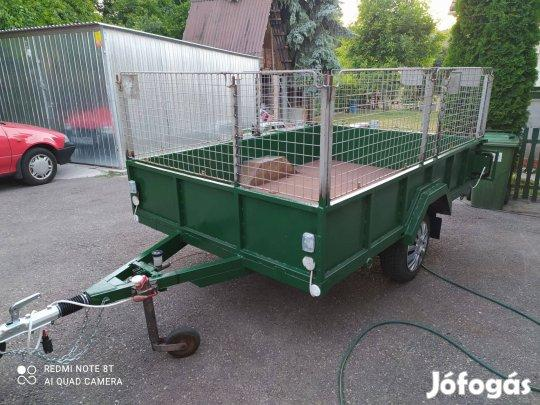trailer: (125, 122, 488, 298)
